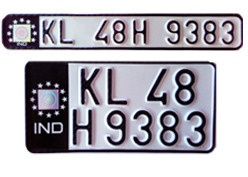plate: (26, 64, 214, 148)
